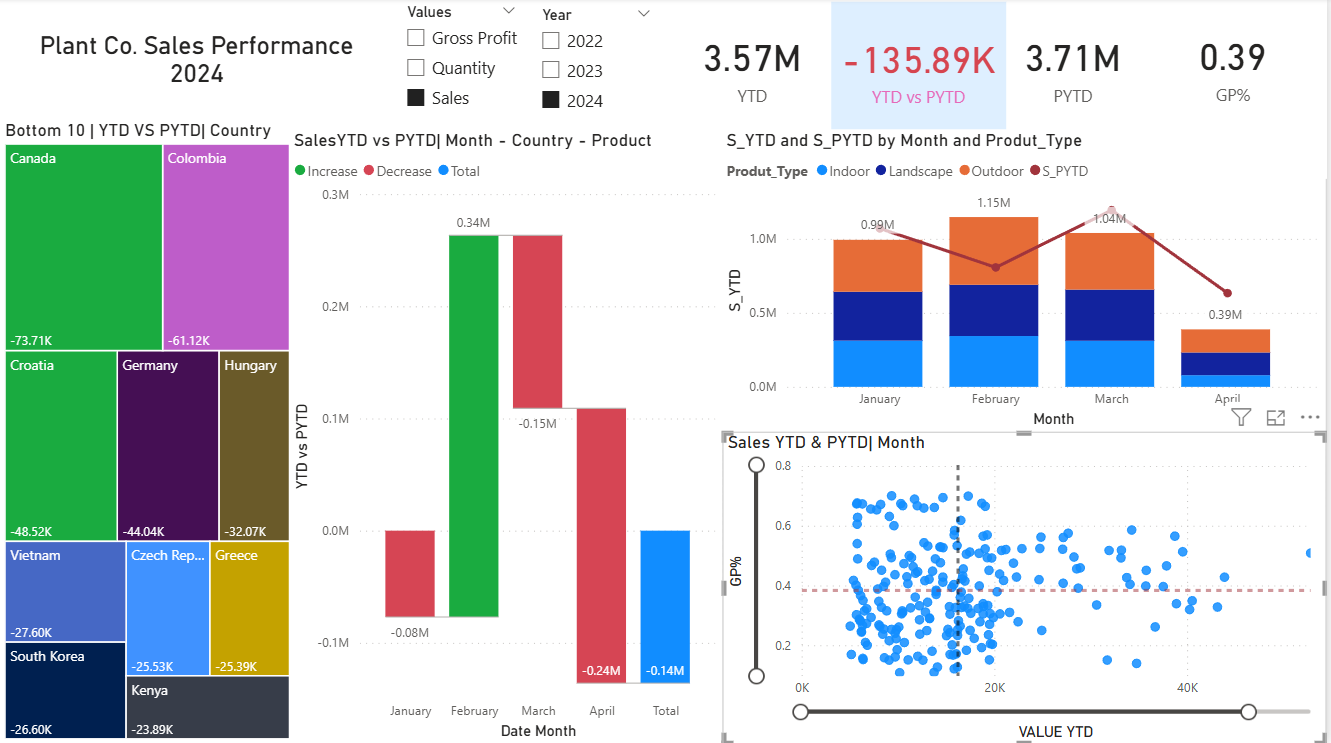

What the dashboard file says about the page in this screenshot:
{"tool":"powerbi","page":{"name":"Performance Report","canvas":[1280,720],"ordinal":0},"visuals":[{"type":"card","fields":{"Values":["_Measures.S_PYTD"]},"box":[970.9,2.4,129,126.6],"z":0},{"type":"card","fields":{"Values":["_Measures.S_YTD"]},"box":[650.1,2.4,152,126.6],"z":1000},{"type":"card","fields":{"Values":["_Measures.YTD vs PYTD"]},"box":[802,3.6,168.8,126.6],"z":2000},{"type":"slicer","fields":{"Values":["Slc_Values.Values"]},"box":[379.9,0,130.3,126.6],"z":3000},{"type":"slicer","fields":{"Values":["Dim_Date.Date.Variation.Date Hierarchy.Year"]},"box":[510.2,2.4,130.3,126.6],"z":4000},{"type":"treemap","title":"Bottom 10 | YTD VS PYTD| Country","fields":{"Values":["_Measures.YTD vs PYTD"],"Group":["Dim_Account.country"]},"box":[0,117,288.2,603],"z":5000},{"type":"waterfallChart","fields":{"Y":["_Measures.YTD vs PYTD"],"Category":["Dim_Date.Date.Variation.Date Hierarchy.Month","Dim_Account.country","Dim_Product.Produt_Type","Dim_Product.Product_Name"]},"box":[278.6,126.6,418.5,593.4],"z":5001},{"type":"lineStackedColumnComboChart","fields":{"Y":["_Measures.S_YTD"],"Category":["Dim_Date.Date.Variation.Date Hierarchy.Quarter","Dim_Date.Date.Variation.Date Hierarchy.Month"],"Y2":["_Measures.S_PYTD"],"Series":["Dim_Product.Produt_Type"]},"box":[695.7,126.2,583.2,292.3],"z":5002},{"type":"actionButton","box":[0,0,100,40],"z":5003},{"type":"card","fields":{"Values":["_Measures.GP%"]},"box":[1099.9,0,179.7,129],"z":5004},{"type":"scatterChart","fields":{"Y":["_Measures.GP%"],"X":["_Measures.S_YTD"],"Category":["Dim_Account.Account"]},"box":[697,418,582,302],"z":5005},{"type":"card","fields":{"Values":["_Measures._Report Title"]},"box":[0,0,379.9,117],"z":5006}]}

Visuals, with their boxes in screenshot pixels (x1, y1, x2, y2), scaled from the page's 1280x720 canvas onto the 1331x743 screenshot:
card - _Measures.S_PYTD: left=1010, top=2, right=1144, bottom=133
card - _Measures.S_YTD: left=676, top=2, right=834, bottom=133
card - _Measures.YTD vs PYTD: left=834, top=4, right=1009, bottom=134
slicer - Slc_Values.Values: left=395, top=0, right=531, bottom=131
slicer - Dim_Date.Date.Variation.Date Hierarchy.Year: left=531, top=2, right=666, bottom=133
"Bottom 10 | YTD VS PYTD| Country" treemap: left=0, top=121, right=300, bottom=742
waterfallChart - _Measures.YTD vs PYTD x Dim_Date.Date.Variation.Date Hierarchy.Month: left=290, top=131, right=725, bottom=742
lineStackedColumnComboChart - _Measures.S_YTD x Dim_Date.Date.Variation.Date Hierarchy.Quarter: left=723, top=130, right=1330, bottom=432
actionButton: left=0, top=0, right=104, bottom=41
card - _Measures.GP%: left=1144, top=0, right=1330, bottom=133
scatterChart - _Measures.GP% x _Measures.S_YTD: left=725, top=431, right=1330, bottom=742
card - _Measures._Report Title: left=0, top=0, right=395, bottom=121
